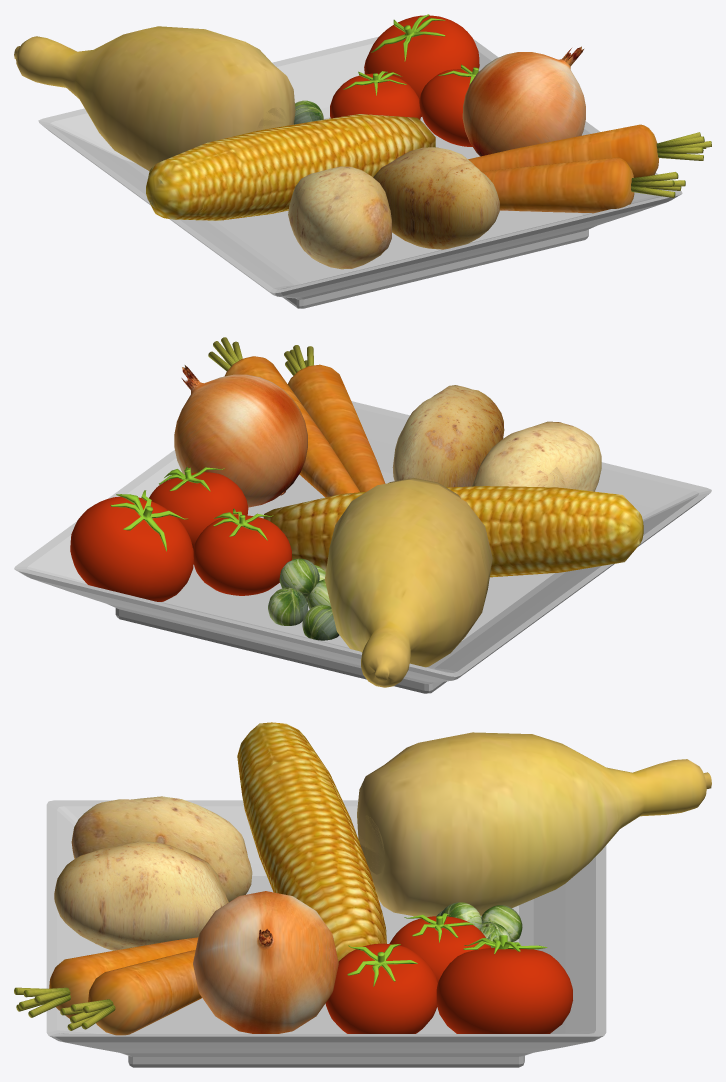
The model's file is vegetable.fbx.
The picture shows the model from 3 angles, top to bottom: view 1: azimuth 30°, elevation 25°; view 2: azimuth 150°, elevation 25°; view 3: azimuth 270°, elevation 25°; orthographic projection. The views are drawn at different scales.
Parts seen in each view (by area): view 1: Plate, Butternut Squash, Corn, onion, Potato2, Potato, Carrot.001, Tomato.002, Carrot, Tomato, Tomato.001, stem (+3 smaller); view 2: Plate, Butternut Squash, Corn, onion, Tomato.002, Potato2, Potato, Tomato, Carrot.001, Tomato.001, Carrot, brussell sprouts (+6 smaller); view 3: Butternut Squash, Plate, Corn, onion, Potato2, Tomato.002, Potato, Tomato.001, Carrot, Carrot.001, Tomato, stem.001 (+6 smaller).
Boxes of the visible parts, box(x1,y1,x2,y2) form: Plate: box(38, 36, 682, 308); Butternut Squash: box(14, 26, 295, 170); Corn: box(146, 114, 435, 220); onion: box(462, 46, 585, 156); Potato2: box(373, 147, 499, 249); Potato: box(288, 166, 391, 269); Carrot.001: box(482, 157, 634, 213); Tomato.002: box(364, 15, 479, 116); Carrot: box(468, 124, 659, 177); Tomato: box(330, 73, 421, 119); Tomato.001: box(419, 69, 472, 146); stem: box(656, 132, 711, 160); Plate: box(14, 401, 711, 693); Butternut Squash: box(324, 478, 492, 687); Corn: box(263, 486, 643, 577); onion: box(174, 365, 307, 507); Tomato.002: box(70, 496, 193, 601); Potato2: box(392, 385, 504, 487); Potato: box(472, 421, 601, 491); Tomato: box(193, 515, 291, 595); Carrot.001: box(288, 364, 385, 492); Tomato.001: box(149, 472, 248, 548); Carrot: box(224, 356, 359, 497); brussell sprouts: box(268, 587, 307, 625); Butternut Squash: box(357, 732, 711, 916); Plate: box(46, 800, 606, 1067); Corn: box(237, 722, 386, 961); onion: box(193, 891, 338, 1033); Potato2: box(54, 841, 228, 950); Tomato.002: box(436, 947, 572, 1033); Potato: box(71, 796, 252, 901); Tomato.001: box(325, 943, 437, 1033); Carrot: box(88, 950, 201, 1035); Carrot.001: box(49, 937, 198, 1018); Tomato: box(389, 916, 491, 982); stem.001: box(14, 987, 70, 1017).
Bounding box in the file's own units: 256 × 80.56 × 275.
